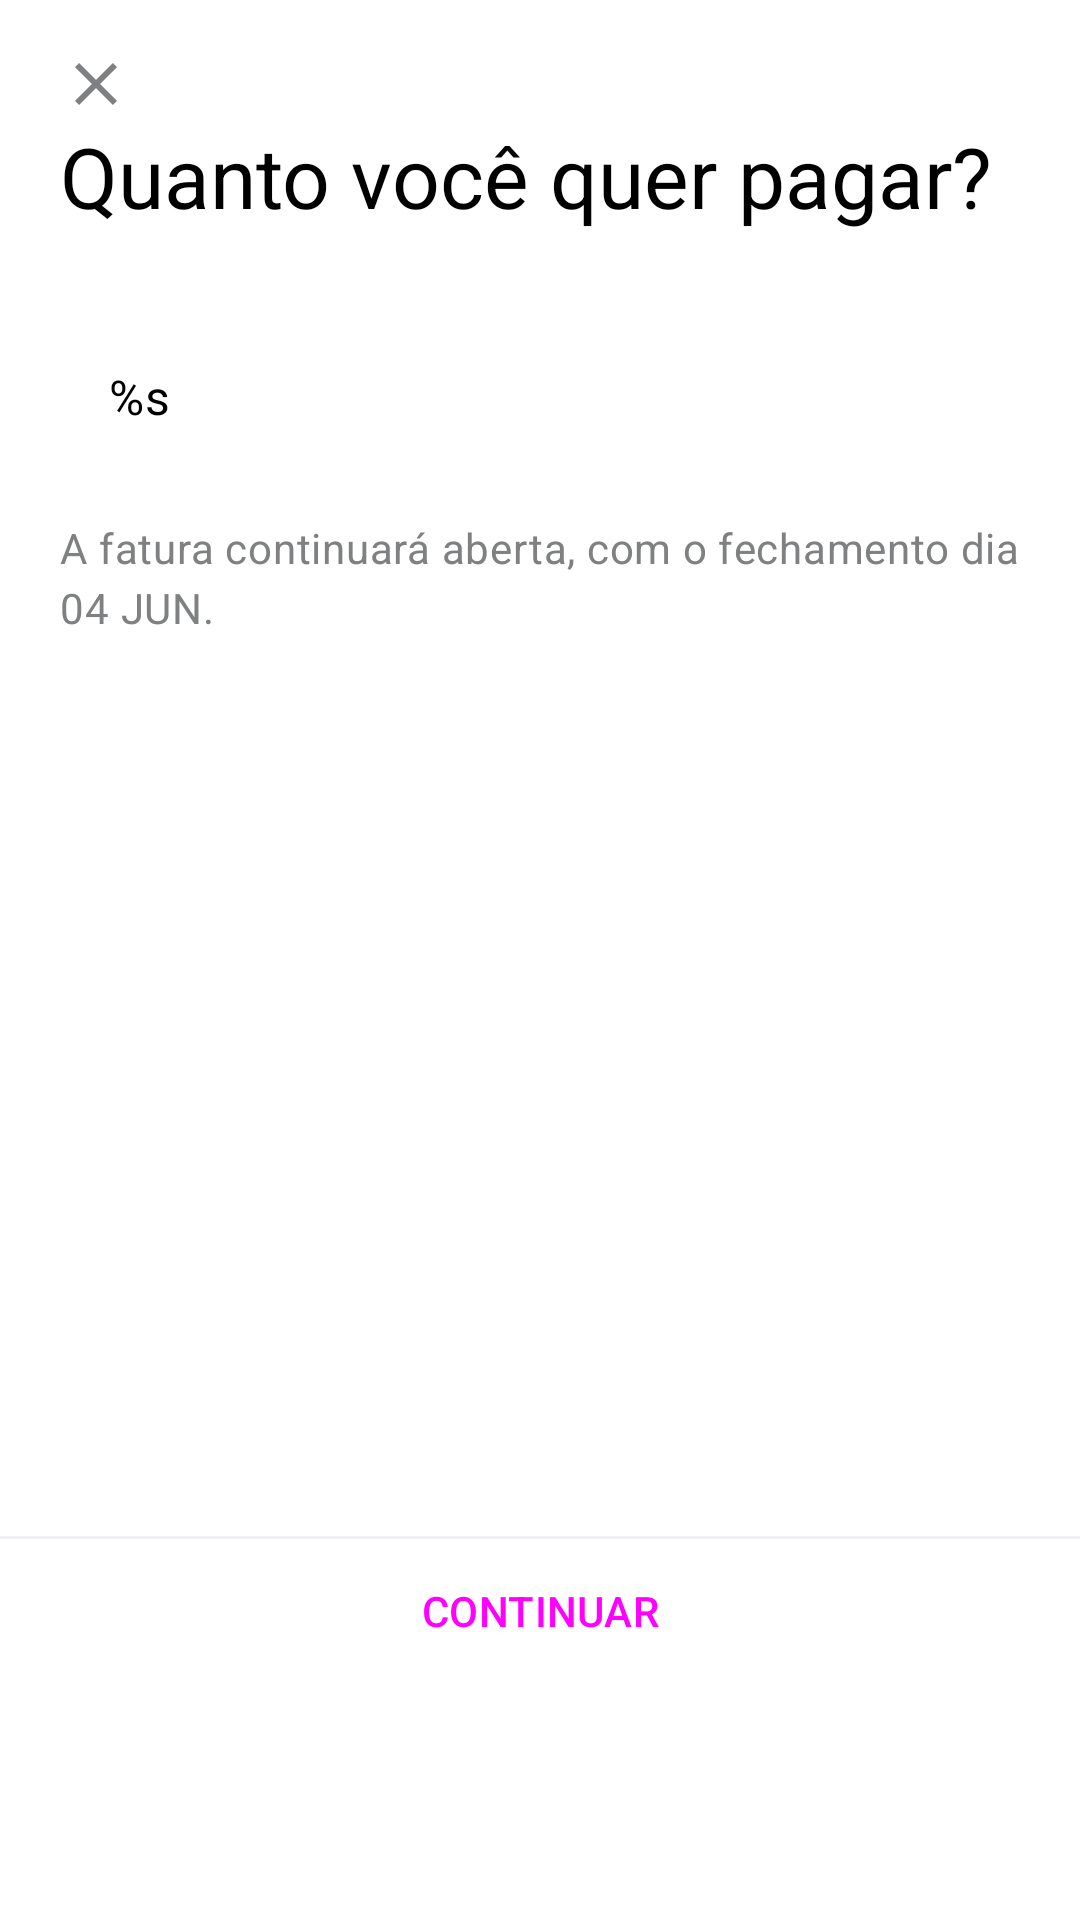

Named icons in this screenshot (1080 × 1920) and their centers, point (x, y):
Ícone em forma de X para o usuário fechar SheetBottom: point (96, 84)
